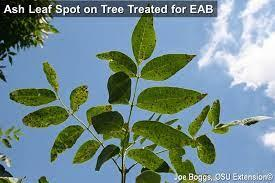leaf_spot: (21, 37, 236, 176)
